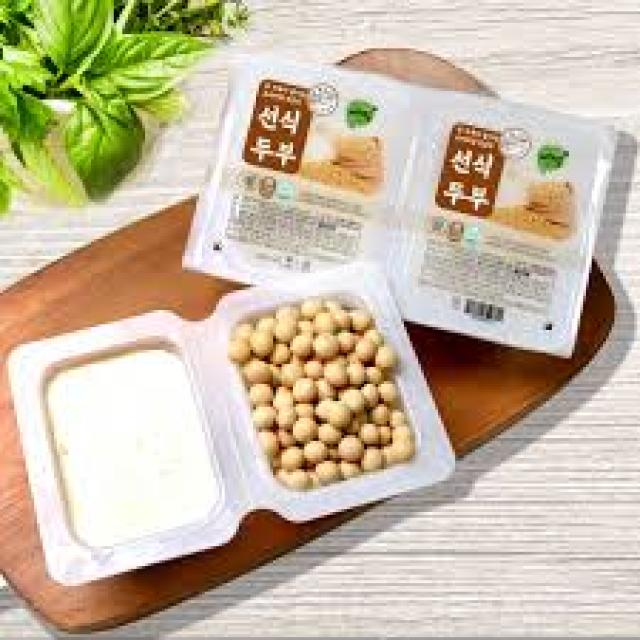tofu: (219, 47, 599, 369), (20, 339, 227, 558)
